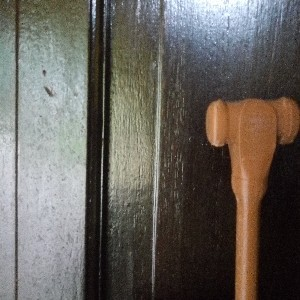palu: (206, 96, 300, 300)
